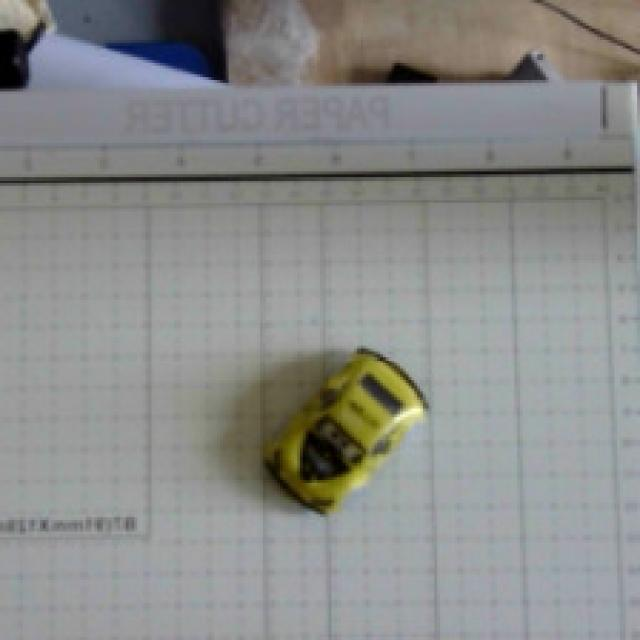Yellow Car: (211, 324, 434, 539)
